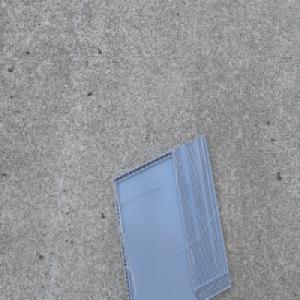PlasticPart: (112, 131, 231, 299)
